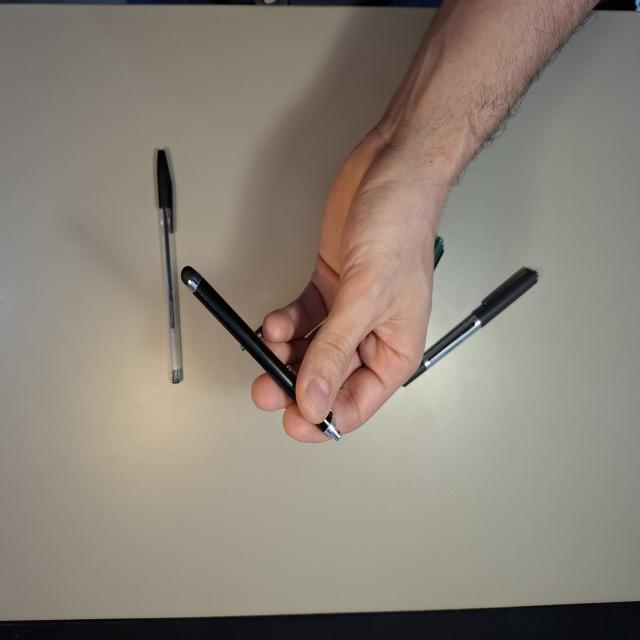glove_off: (248, 115, 458, 446)
